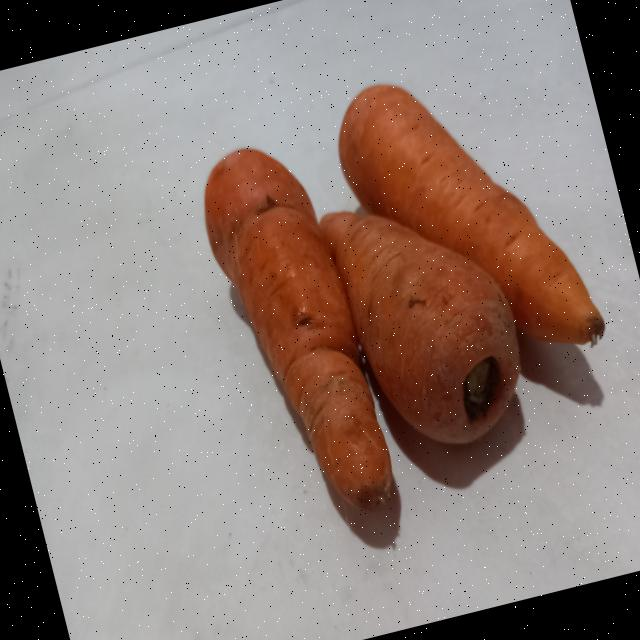carrot: (338, 84, 605, 344), (204, 148, 392, 509), (320, 211, 519, 443)
